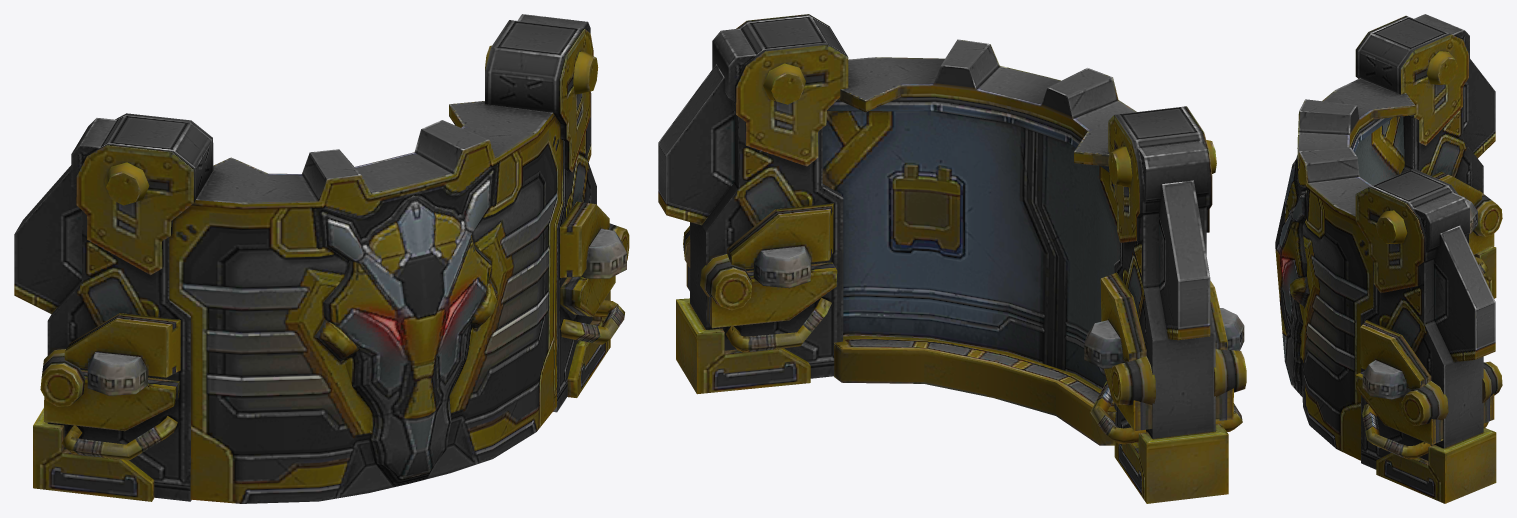
Rendered from free_fire_death_guardian.glb.
3 renders of one model, left to right at view 1: azimuth 30°, elevation 25°; view 2: azimuth 150°, elevation 25°; view 3: azimuth 270°, elevation 25°, orthographic. The views are drawn at different scales.
Visible parts, largest first — view 1: IceWall_Bunker_Faimplague2; view 2: IceWall_Bunker_Faimplague2; view 3: IceWall_Bunker_Faimplague2.
Part boxes in pixels (left/top/right/bottom): IceWall_Bunker_Faimplague2: left=14, top=14, right=629, bottom=503; IceWall_Bunker_Faimplague2: left=658, top=14, right=1246, bottom=503; IceWall_Bunker_Faimplague2: left=1275, top=14, right=1502, bottom=503.
Bounding box in the file's own units: 0.0465 × 0.0263 × 0.0193.
1 material, 1 textured.
